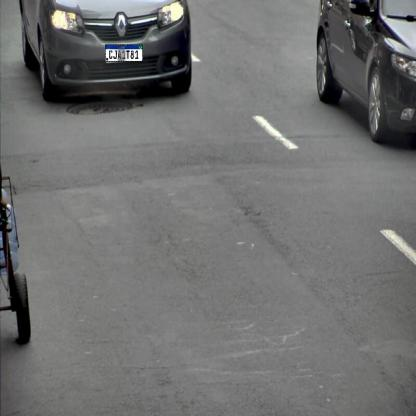PlacaM: (105, 44, 143, 62)
